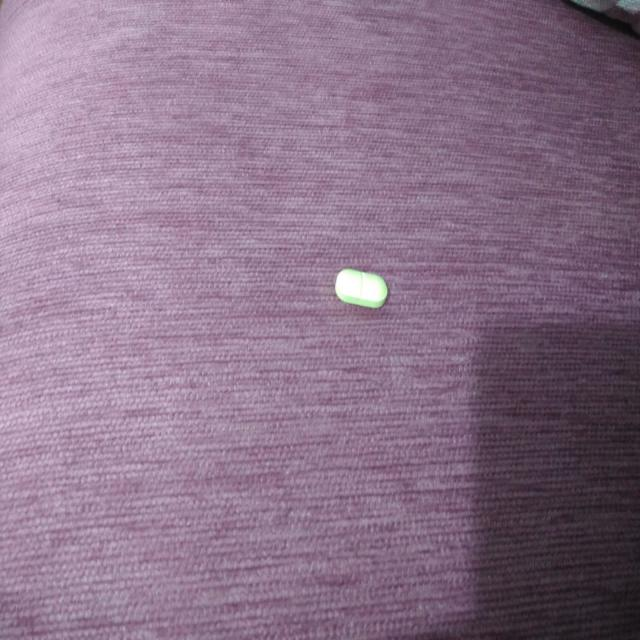pills: (326, 251, 402, 328)
